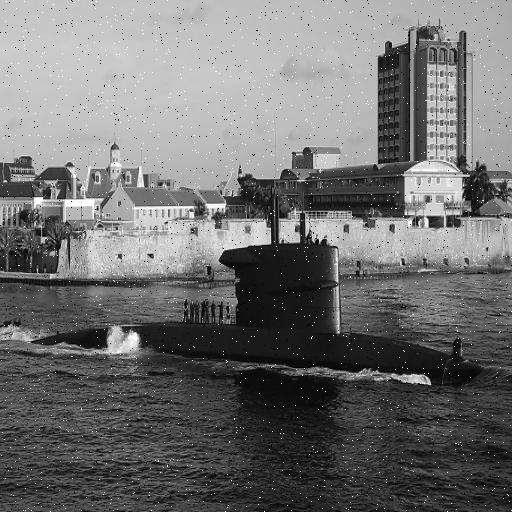submarine: (1, 178, 494, 385)
